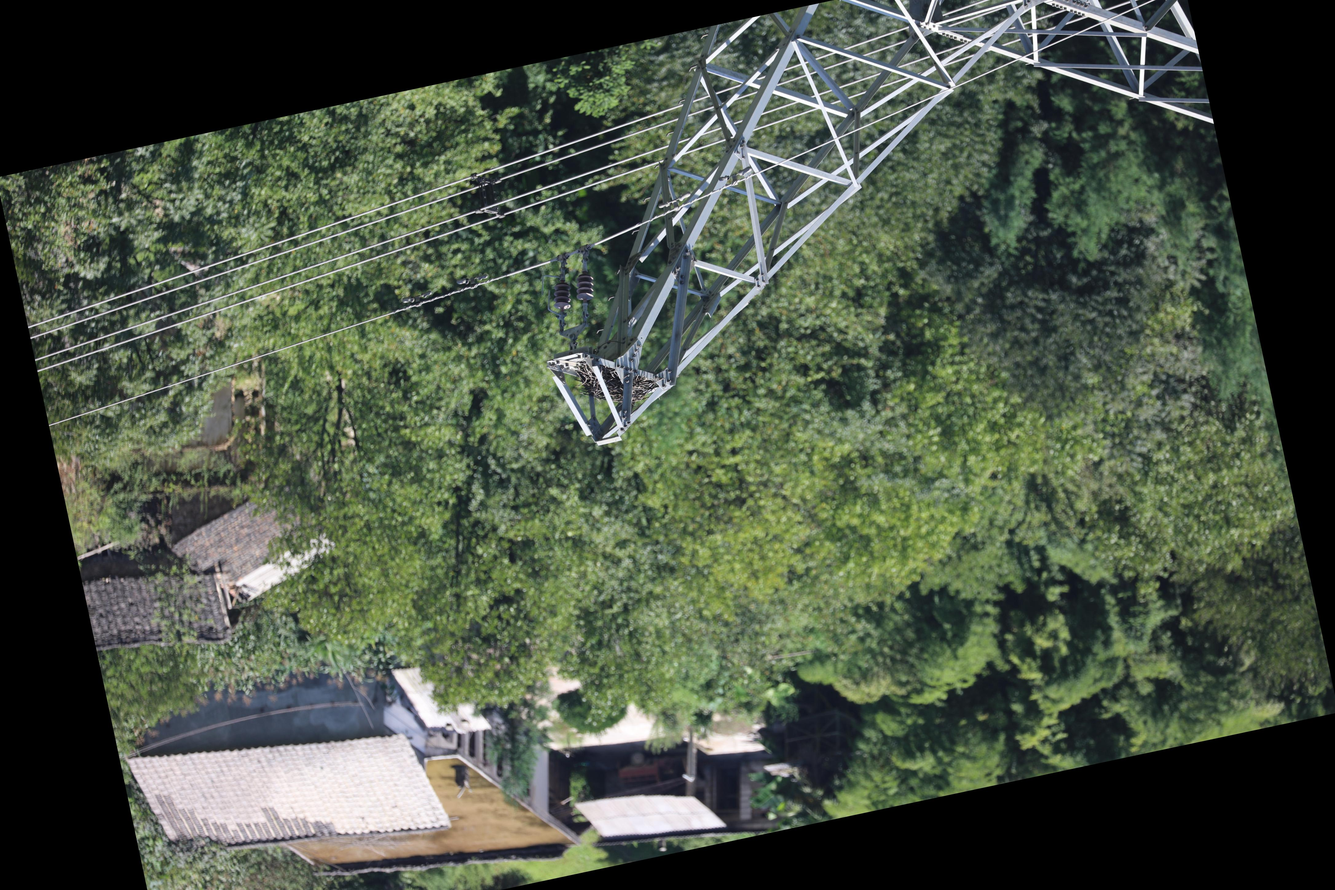damper: (715, 163, 757, 191), (654, 188, 695, 216), (454, 271, 492, 294), (415, 284, 451, 308)
